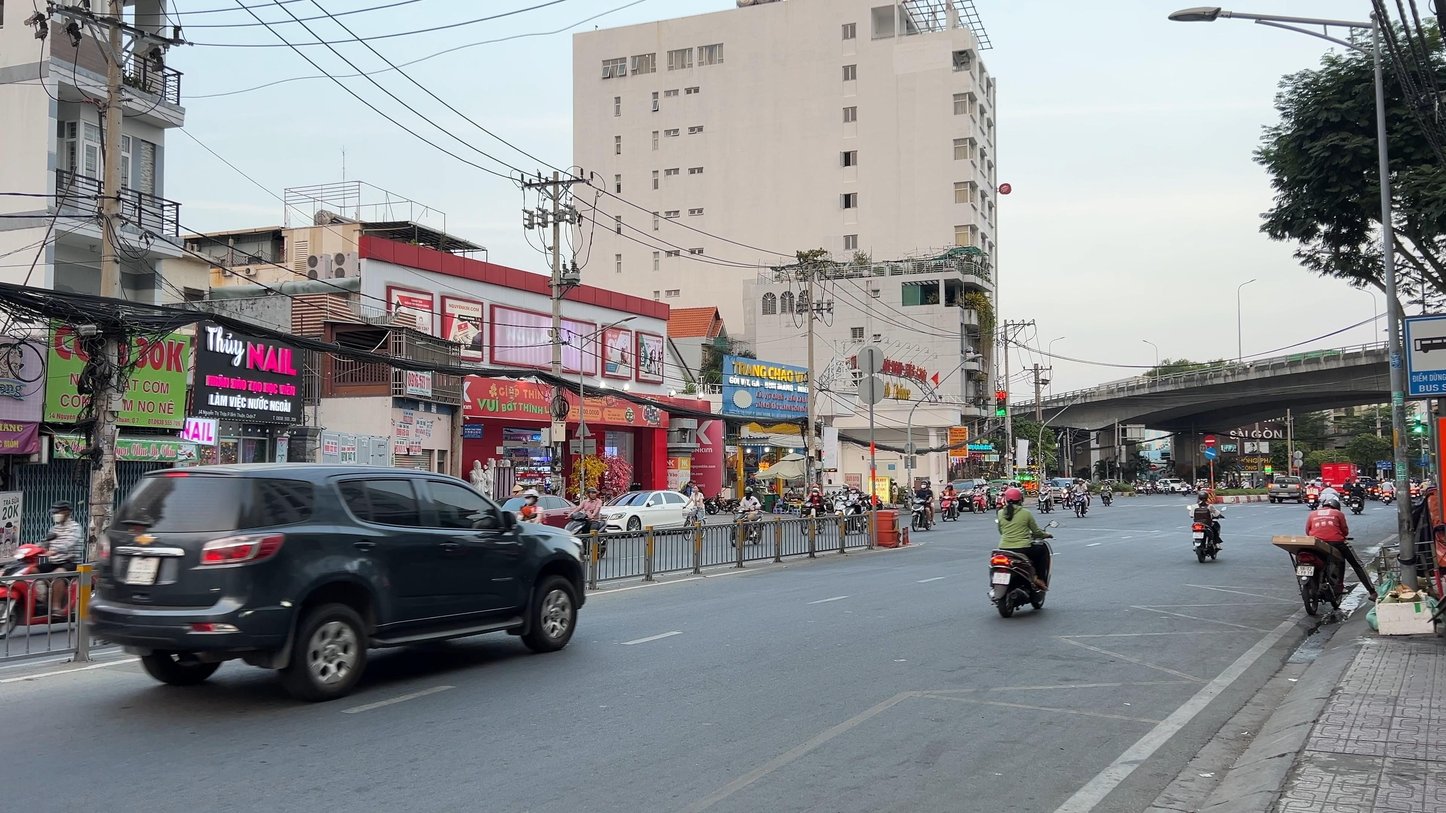bicyclist: (680, 484, 708, 541)
driver: (0, 501, 98, 640), (1272, 498, 1378, 616), (986, 488, 1060, 618), (563, 487, 608, 559), (1187, 490, 1227, 563), (730, 487, 765, 547), (908, 479, 936, 532), (839, 486, 867, 536), (801, 487, 827, 536), (940, 482, 961, 522), (1070, 478, 1090, 518), (1036, 481, 1055, 514), (1349, 482, 1366, 515), (972, 482, 989, 514), (1306, 480, 1321, 510), (1380, 478, 1394, 506), (1100, 479, 1114, 506)
helmet: (1005, 488, 1023, 506), (523, 489, 539, 506), (1322, 498, 1341, 511), (587, 487, 597, 500), (1199, 491, 1209, 502), (744, 487, 753, 497), (920, 480, 928, 490), (812, 488, 819, 496)
no-helmet: (48, 500, 73, 522), (693, 485, 699, 493)
